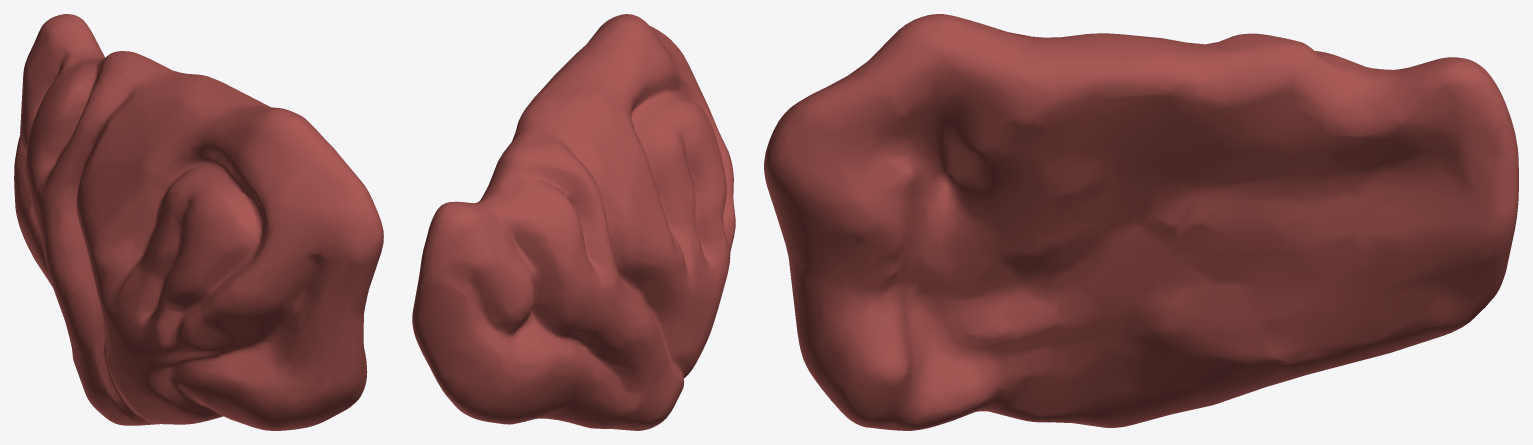
Rendered from FMA72977.glb.
3 views of the same model, side by side, from view 1: azimuth 30°, elevation 25°; view 2: azimuth 150°, elevation 25°; view 3: azimuth 270°, elevation 25° (orthographic). The views are drawn at different scales.
Parts seen in each view (by area): view 1: FMA72977; view 2: FMA72977; view 3: FMA72977.
Part boxes in pixels (bbox=[...]): FMA72977: bbox=[14, 14, 383, 430]; FMA72977: bbox=[412, 14, 735, 430]; FMA72977: bbox=[764, 14, 1518, 430].
Bounding box in the file's own units: 0.0183 × 0.0327 × 0.049.
